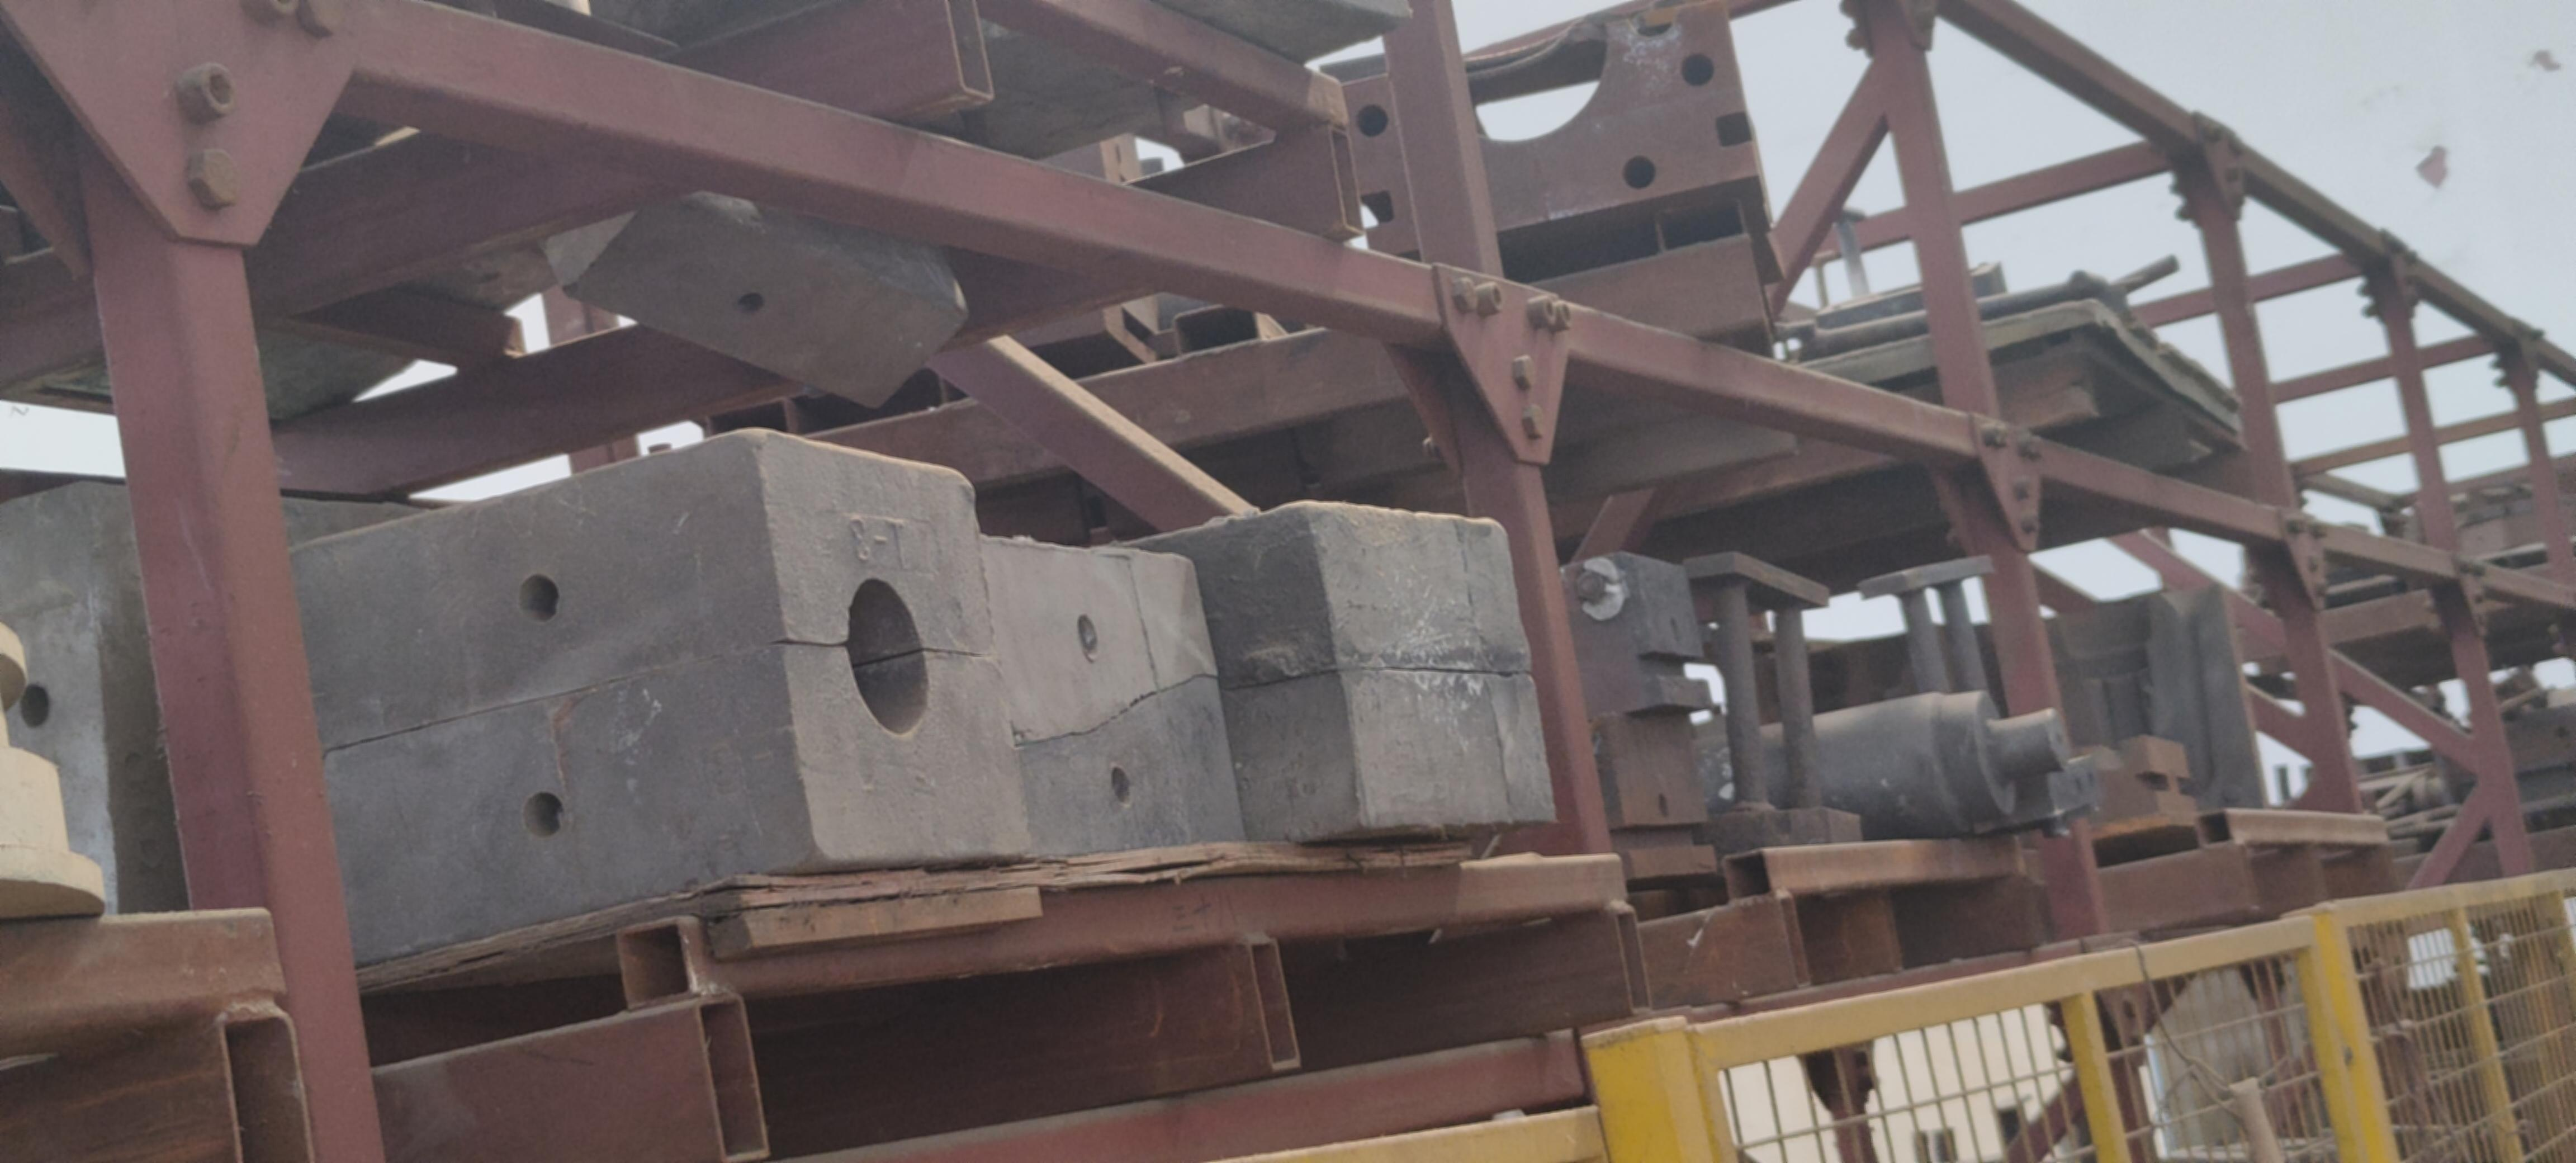pouring hole: (848, 578, 930, 734)
